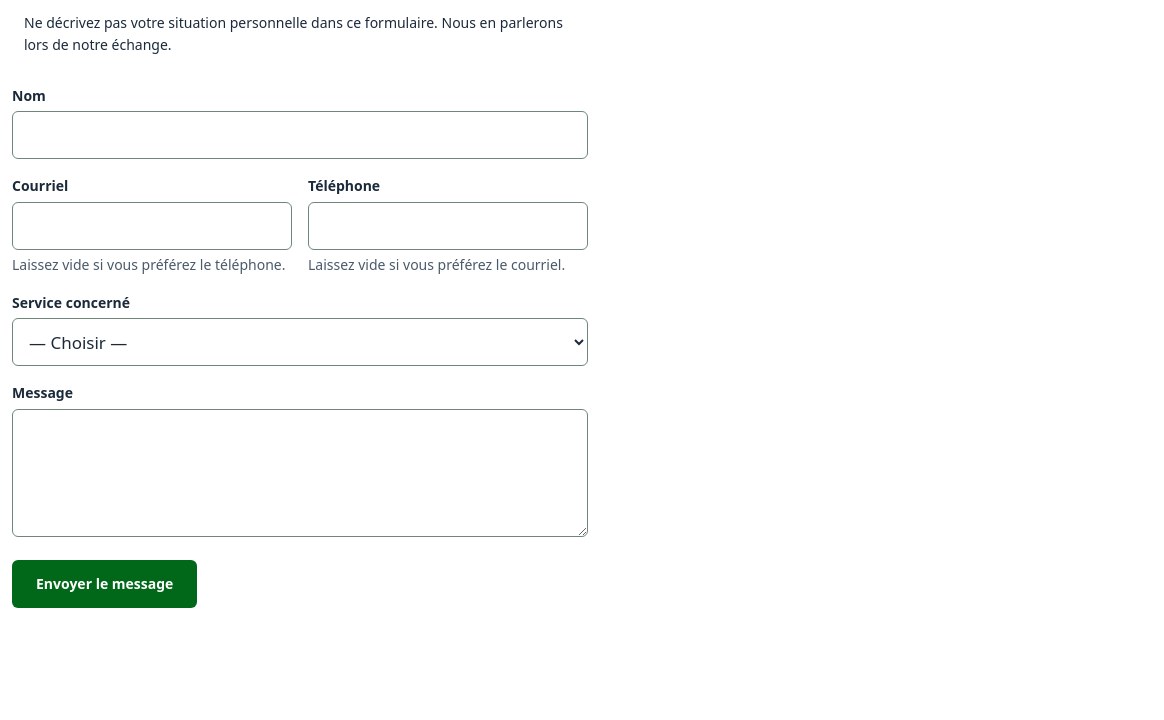
Test: ContactForm › affiche le succès quand le serveur répond ok
The image size is (1164, 720).
In the field labelled "Nom": (300, 135) x1=12 y1=111 x2=588 y2=159, type "Jean"
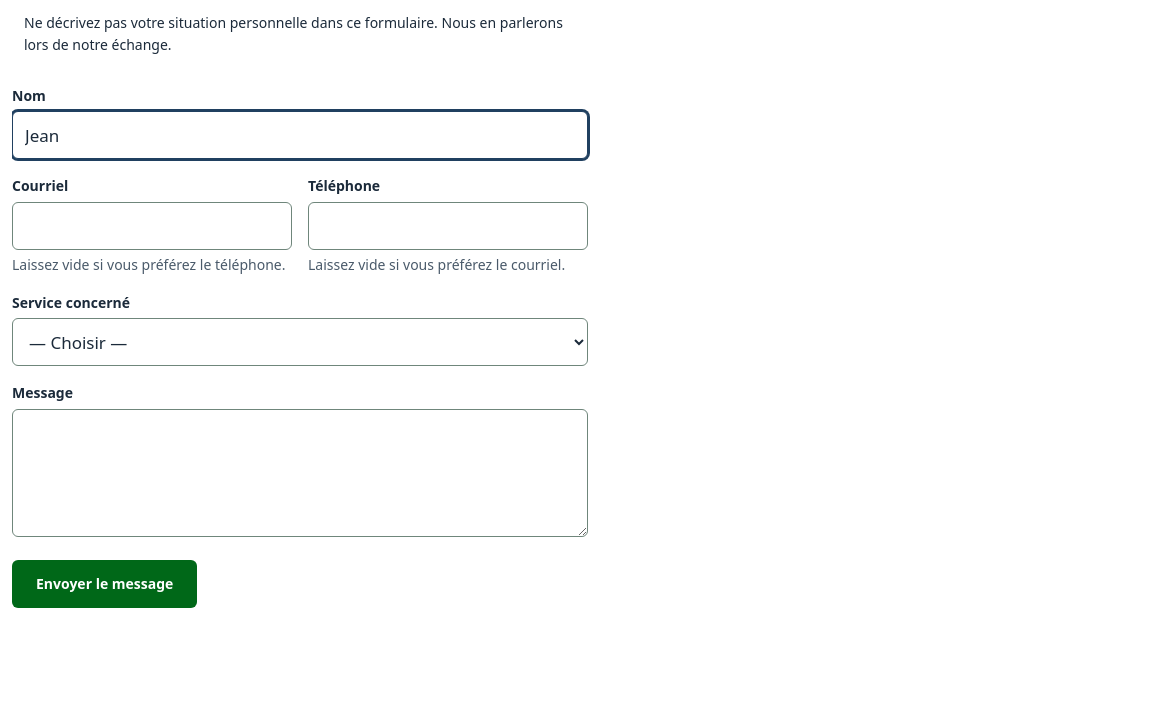
In the field labelled "Courriel": (152, 226) x1=12 y1=202 x2=292 y2=250, type "jean@example.com"
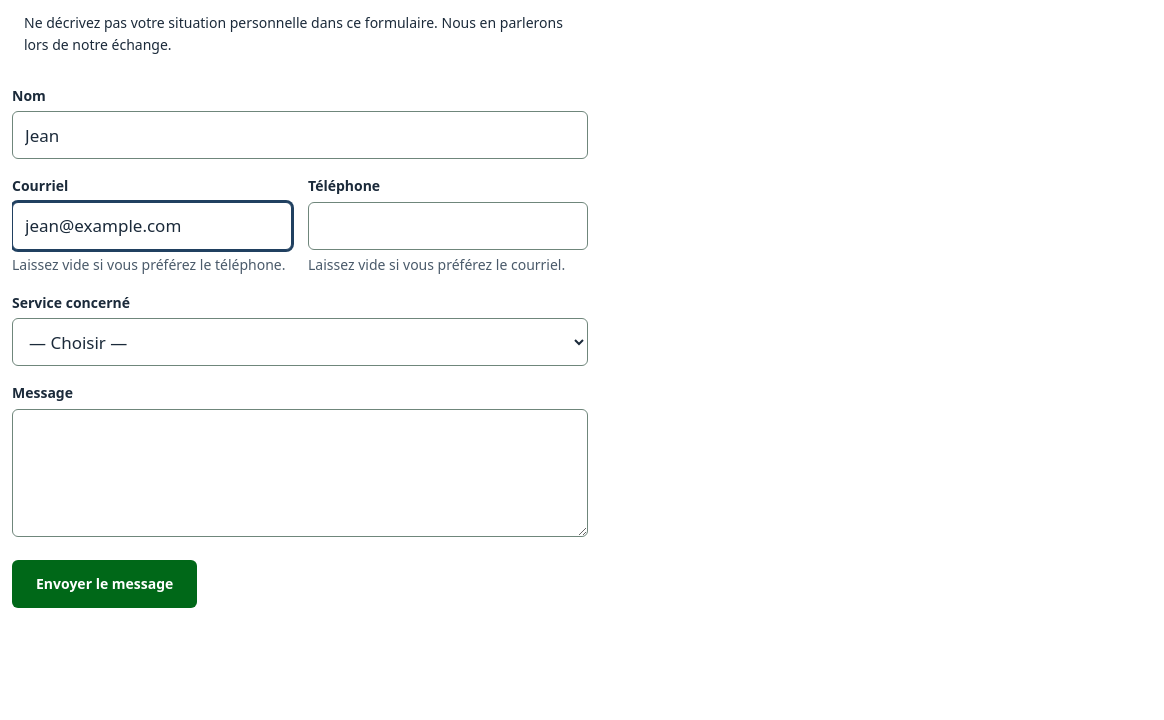
In the text box labelled "Message": (300, 473) x1=12 y1=409 x2=588 y2=537, type "Bonjour, je voudrais des informations."
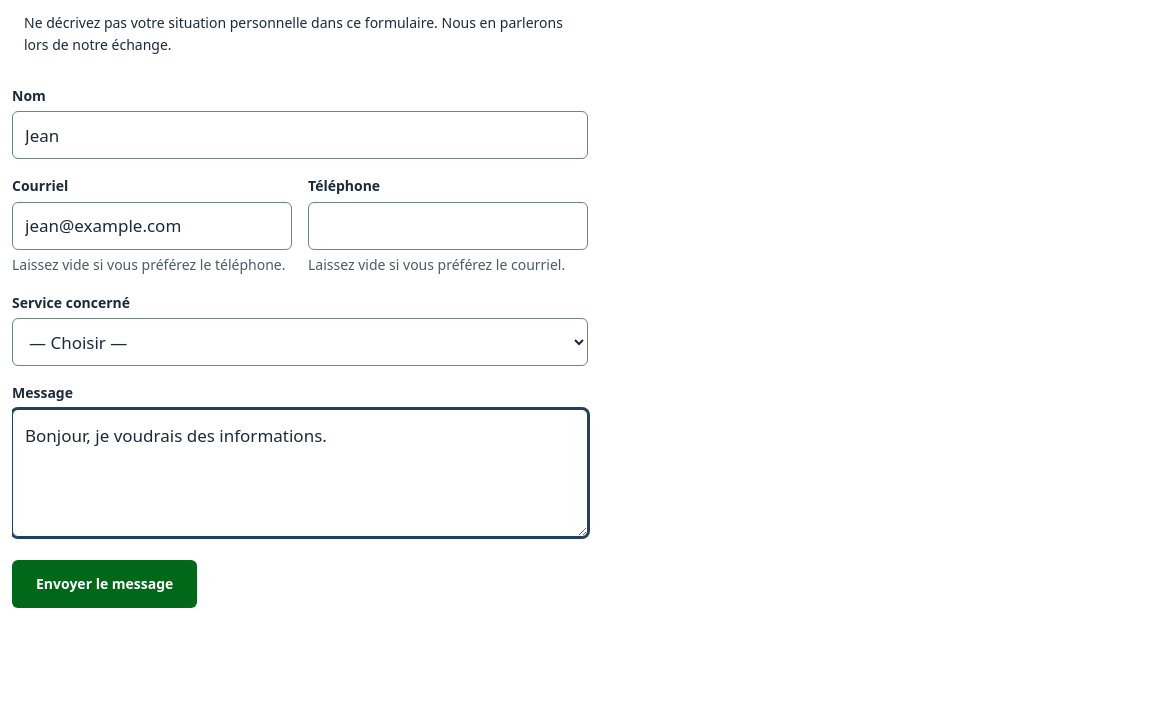
Click the button "Envoyer le message": click(105, 584) x1=12 y1=560 x2=197 y2=608
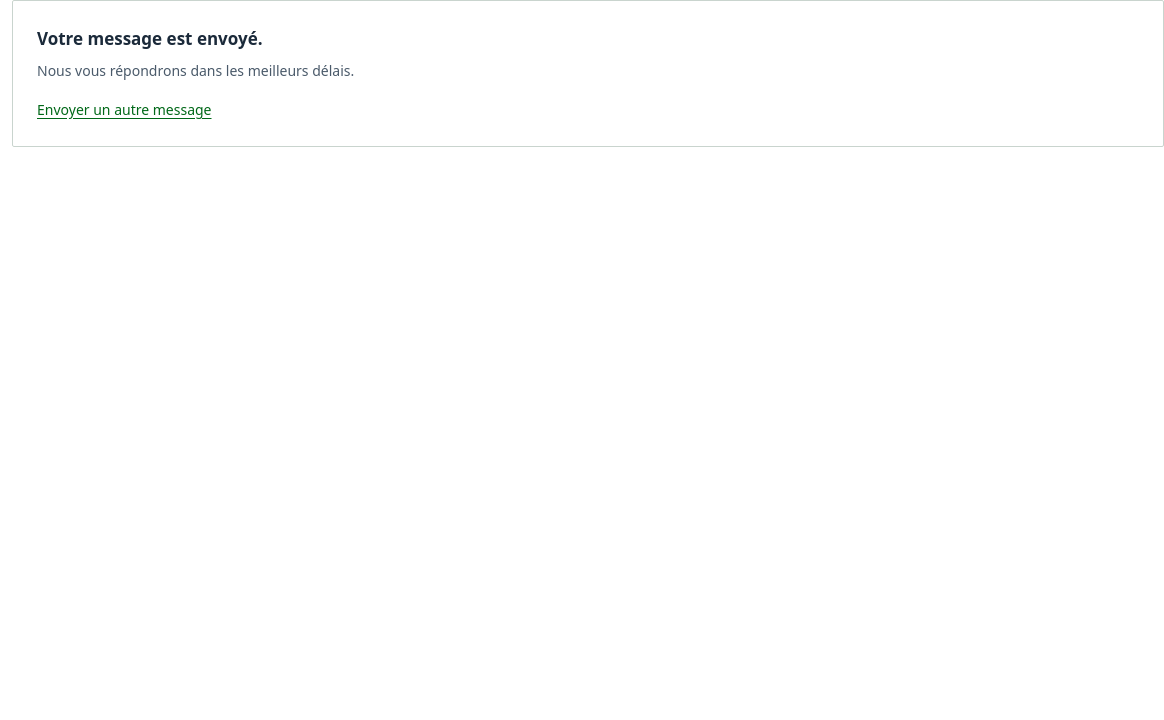
Expected: the text "Votre message est envoyé." is shown, x1=37 y1=27 x2=262 y2=50
